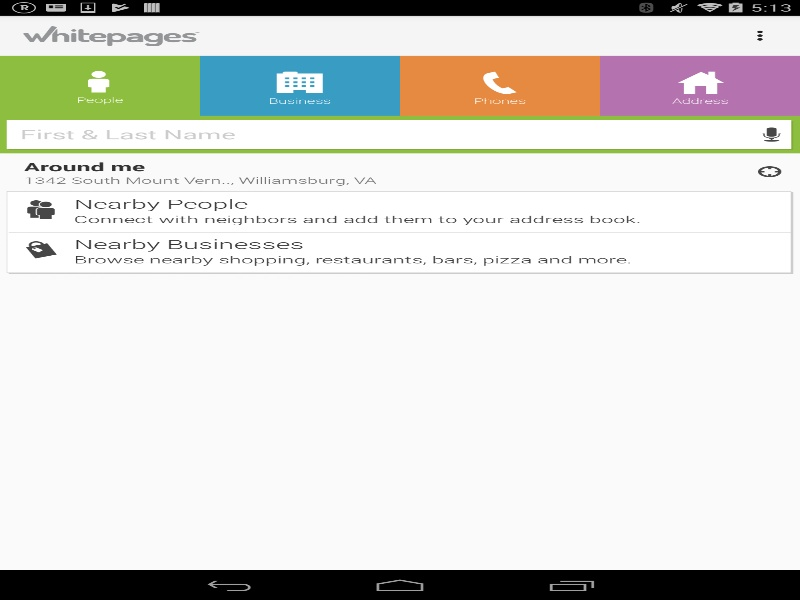Button: (0, 55, 200, 115), (200, 55, 400, 115), (400, 55, 600, 115), (600, 55, 800, 115)
Input: (20, 120, 744, 149)
